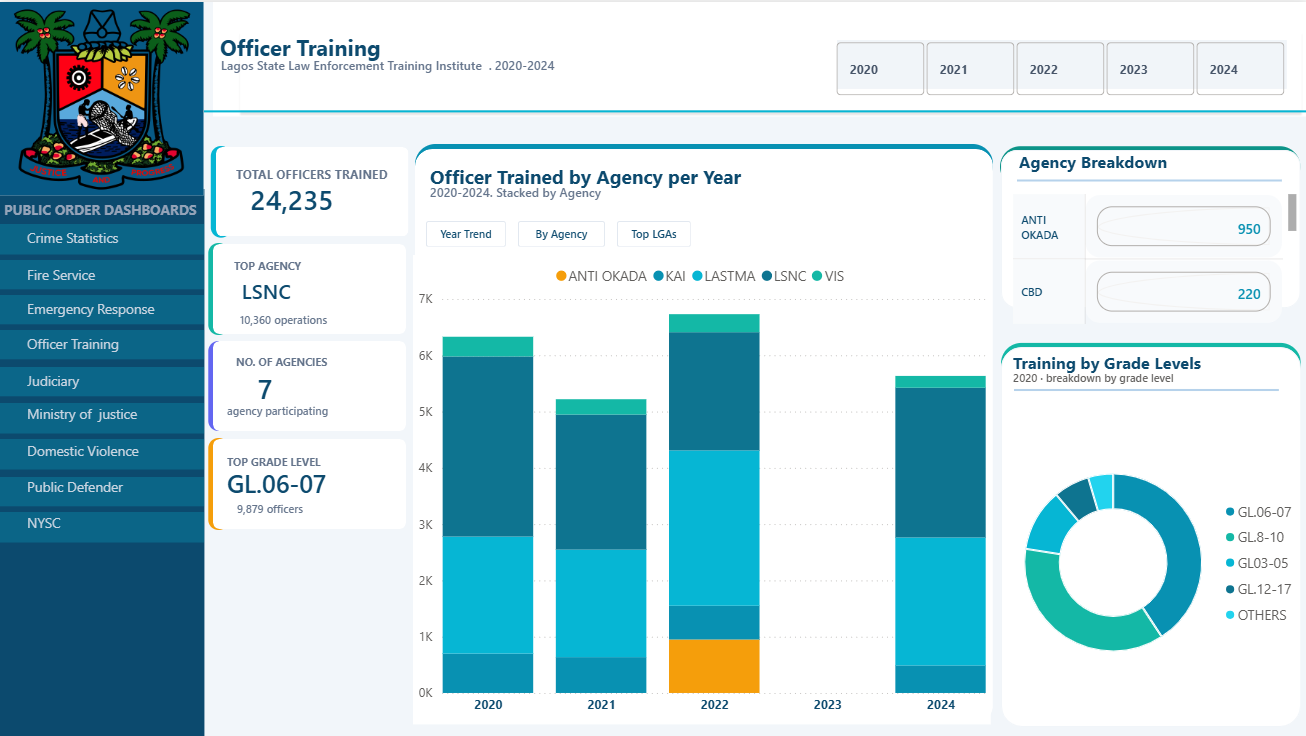

Layout of this report page (visuals, bound fields, positions):
{"tool":"powerbi","page":{"name":"Officer Training","canvas":[1280,720],"ordinal":3},"visuals":[{"type":"shape","box":[93.9,426.3,241.5,90],"z":0},{"type":"shape","box":[209.3,427.3,188.7,88],"z":1000},{"type":"shape","box":[93.9,331.5,241.5,88],"z":2000},{"type":"shape","box":[209.3,331.5,188.7,88],"z":3000},{"type":"shape","box":[93.9,235.7,241.5,90],"z":4000},{"type":"shape","box":[209.3,236.6,188.7,88],"z":5000},{"type":"shape","box":[979.6,308.4,293.3,90.7],"z":6000},{"type":"shape","box":[979.6,337.8,293.3,371.6],"z":7000},{"type":"shape","box":[407.1,99.6,565.3,118.2],"z":8000},{"type":"shape","box":[0,183.1,200.9,536.9],"z":9000},{"type":"shape","box":[0,499.1,200.6,29.9],"z":10000},{"type":"shape","box":[0,464.5,200.6,28.7],"z":11000},{"type":"shape","box":[0,427.5,200.6,29.9],"z":12000},{"type":"shape","box":[0,391.6,200.6,29.9],"z":13000},{"type":"shape","box":[0,357,200.6,28.7],"z":14000},{"type":"shape","box":[0,321.2,200.6,28.7],"z":15000},{"type":"shape","box":[0,286.6,200.6,28.7],"z":16000},{"type":"shape","box":[0,251.9,200.6,28.7],"z":17000},{"type":"shape","box":[0,217.3,200.6,29.9],"z":18000},{"type":"textbox","box":[211.8,0,373,70.6],"z":19000},{"type":"shape","box":[96.5,140.7,240.6,89.6],"z":20000},{"type":"shape","box":[212.2,141.8,188.4,87.4],"z":21000},{"type":"shape","box":[209.2,0,1071,112.2],"z":22000},{"type":"shape","box":[0,0,200,189.3],"z":23000},{"type":"shape","box":[813.3,31.1,451.6,59.6],"z":24000},{"type":"advancedSlicerVisual","fields":{"Values":["YearTable.Year"]},"box":[799.1,31.1,480.9,68.4],"z":25000},{"type":"shape","box":[407.1,144,565.3,560.9],"z":26000},{"type":"shape","box":[979.1,111,293.7,99.1],"z":27000},{"type":"shape","box":[979.3,145,292.9,154.7],"z":28000},{"type":"textbox","box":[226.9,154.5,174.1,35.2],"z":29000},{"type":"card","fields":{"Values":["Trained Office_by year.Total Officers Trained"]},"box":[226.9,167.2,119.3,53.8],"z":30000},{"type":"card","fields":{"Values":["Trained Office_by year.Top Agency"]},"box":[209.3,266,104.6,36.2],"z":31000},{"type":"textbox","box":[224.9,243.5,92.9,29.3],"z":32000},{"type":"textbox","box":[226.9,337.4,119.3,31.3],"z":33000},{"type":"card","fields":{"Values":["Trained Office_by year.Top Grade Level"]},"box":[203.4,448.8,135.9,46.9],"z":34000},{"type":"card","fields":{"Values":["Trained Office_by year.No of Agencies"]},"box":[224.9,358.9,70.4,40.1],"z":35000},{"type":"textbox","box":[218.1,435.1,120.3,29.3],"z":36000},{"type":"cardVisual","fields":{"Data":["Trained Office_by year.Total Officers Trained"],"Rows":["Trained Office_by year.AGENCY TRAINED"]},"box":[986.7,183.1,287.1,137.8],"z":38000},{"type":"donutChart","fields":{"Category":["Trained Office_by year.Level"],"Y":["Trained Office_by year.Total Officers Trained"]},"box":[980.4,392.6,292.4,311],"z":39000},{"type":"shape","box":[992.5,336.4,259.1,86.1],"z":40000},{"type":"shape","box":[995.4,127.1,259.1,94.9],"z":41000},{"type":"textbox","box":[986.6,337.4,265,41.1],"z":42000},{"type":"textbox","box":[992.8,140.5,280,48.6],"z":43000},{"type":"textbox","box":[211.8,48,373,51.6],"z":44000},{"type":"textbox","box":[218.1,385.3,144.7,33.2],"z":45000},{"type":"textbox","box":[211.6,24,303.1,49.8],"z":52000},{"type":"textbox","box":[0,189.7,200.5,39.1],"z":53000},{"type":"textbox","box":[22.7,217.3,125.4,29.9],"z":54000},{"type":"textbox","box":[22.7,253.1,115.8,27.5],"z":55000},{"type":"textbox","box":[22.7,286.6,146.9,28.7],"z":56000},{"type":"textbox","box":[22.7,321.2,146.9,28.7],"z":57000},{"type":"textbox","box":[22.7,357,132.5,28.7],"z":58000},{"type":"textbox","box":[22.7,389.3,132.5,34.6],"z":59000},{"type":"textbox","box":[22.7,425.1,132.5,34.6],"z":60000},{"type":"textbox","box":[22.7,460.9,132.5,32.2],"z":61000},{"type":"textbox","box":[22.7,495.5,115.8,33.4],"z":62000},{"type":"card","fields":{"Values":["Trained Office_by year.Top Agency count"]},"box":[218.1,299.2,120.3,26.4],"z":63000},{"type":"card","fields":{"Values":["Trained Office_by year.Top Grade Count"]},"box":[212.2,483.1,105.6,24.4],"z":76000},{"type":"columnChart","fields":{"Category":["Trained Office_by year.Year"],"Series":["Trained Office_by year.AGENCY TRAINED"],"Y":["Trained Office_by year.Total Officers Trained"]},"box":[404.8,247.4,565.2,458.6],"z":77000},{"type":"textbox","box":[416.6,152.5,459.6,37.2],"z":78000},{"type":"textbox","box":[416.6,172.1,364.7,44],"z":79000},{"type":"shape","title":"v","box":[417.5,214.1,78.2,25.4],"z":86000},{"type":"shape","title":"v","box":[507.5,214.1,85.1,25.4],"z":87000},{"type":"shape","title":"v","box":[604.3,214.1,72.4,25.4],"z":88000},{"type":"textbox","box":[986.6,359.8,248.4,42],"z":89000},{"type":"shape","box":[200.9,61.3,1079.1,90.7],"z":90000},{"type":"image","box":[0,0,200.5,189.7],"z":91000}]}

Visuals, with their boxes on the page's 1280x720 design canvas (x1, y1, x2, y2). These are canvas units, not pixel positions in the 1306x736 screenshot, which may show the page scaled, cropped or inside an application window:
shape: <box>94,426,335,516</box>
shape: <box>209,427,398,515</box>
shape: <box>94,332,335,420</box>
shape: <box>209,332,398,420</box>
shape: <box>94,236,335,326</box>
shape: <box>209,237,398,325</box>
shape: <box>980,308,1273,399</box>
shape: <box>980,338,1273,709</box>
shape: <box>407,100,972,218</box>
shape: <box>0,183,201,720</box>
shape: <box>0,499,201,529</box>
shape: <box>0,464,201,493</box>
shape: <box>0,428,201,457</box>
shape: <box>0,392,201,422</box>
shape: <box>0,357,201,386</box>
shape: <box>0,321,201,350</box>
shape: <box>0,287,201,315</box>
shape: <box>0,252,201,281</box>
shape: <box>0,217,201,247</box>
textbox: <box>212,0,585,71</box>
shape: <box>96,141,337,230</box>
shape: <box>212,142,401,229</box>
shape: <box>209,0,1280,112</box>
shape: <box>0,0,200,189</box>
shape: <box>813,31,1265,91</box>
advancedSlicerVisual - YearTable.Year: <box>799,31,1280,100</box>
shape: <box>407,144,972,705</box>
shape: <box>979,111,1273,210</box>
shape: <box>979,145,1272,300</box>
textbox: <box>227,154,401,190</box>
card - Trained Office_by year.Total Officers Trained: <box>227,167,346,221</box>
card - Trained Office_by year.Top Agency: <box>209,266,314,302</box>
textbox: <box>225,244,318,273</box>
textbox: <box>227,337,346,369</box>
card - Trained Office_by year.Top Grade Level: <box>203,449,339,496</box>
card - Trained Office_by year.No of Agencies: <box>225,359,295,399</box>
textbox: <box>218,435,338,464</box>
cardVisual - Trained Office_by year.Total Officers Trained x Trained Office_by year.AGENCY TRAINED: <box>987,183,1274,321</box>
donutChart - Trained Office_by year.Level x Trained Office_by year.Total Officers Trained: <box>980,393,1273,704</box>
shape: <box>992,336,1252,422</box>
shape: <box>995,127,1254,222</box>
textbox: <box>987,337,1252,378</box>
textbox: <box>993,140,1273,189</box>
textbox: <box>212,48,585,100</box>
textbox: <box>218,385,363,418</box>
textbox: <box>212,24,515,74</box>
textbox: <box>0,190,200,229</box>
textbox: <box>23,217,148,247</box>
textbox: <box>23,253,138,281</box>
textbox: <box>23,287,170,315</box>
textbox: <box>23,321,170,350</box>
textbox: <box>23,357,155,386</box>
textbox: <box>23,389,155,424</box>
textbox: <box>23,425,155,460</box>
textbox: <box>23,461,155,493</box>
textbox: <box>23,496,138,529</box>
card - Trained Office_by year.Top Agency count: <box>218,299,338,326</box>
card - Trained Office_by year.Top Grade Count: <box>212,483,318,508</box>
columnChart - Trained Office_by year.Year x Trained Office_by year.AGENCY TRAINED: <box>405,247,970,706</box>
textbox: <box>417,152,876,190</box>
textbox: <box>417,172,781,216</box>
"v" shape: <box>418,214,496,240</box>
"v" shape: <box>508,214,593,240</box>
"v" shape: <box>604,214,677,240</box>
textbox: <box>987,360,1235,402</box>
shape: <box>201,61,1280,152</box>
image: <box>0,0,200,190</box>
